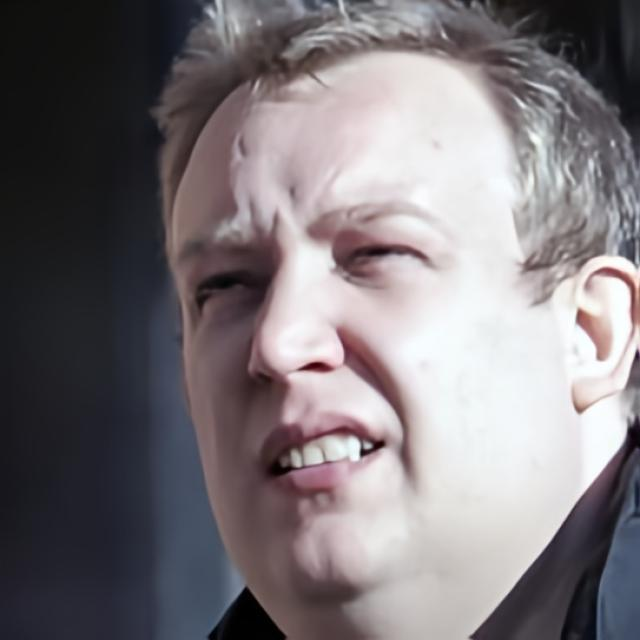disgust: (163, 47, 570, 601)
